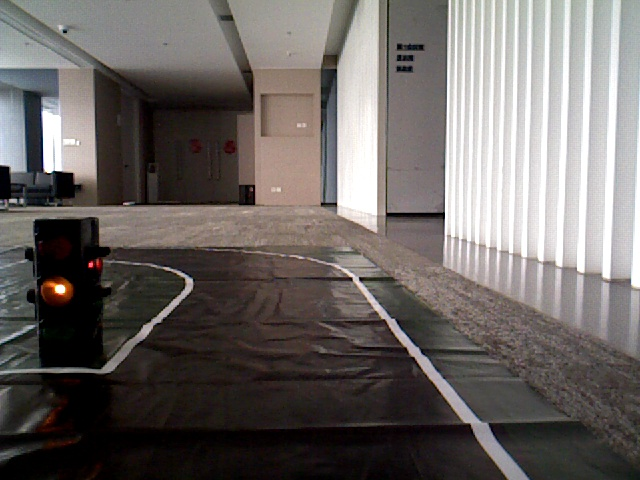yellow: (33, 225, 84, 339)
